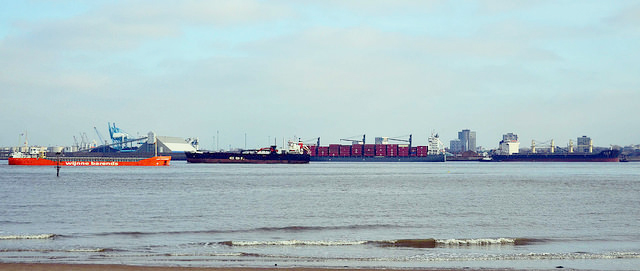bulk carrier: (489, 135, 620, 160)
container_ship: (310, 136, 448, 163)
tanker: (9, 139, 167, 169), (184, 140, 310, 165)
